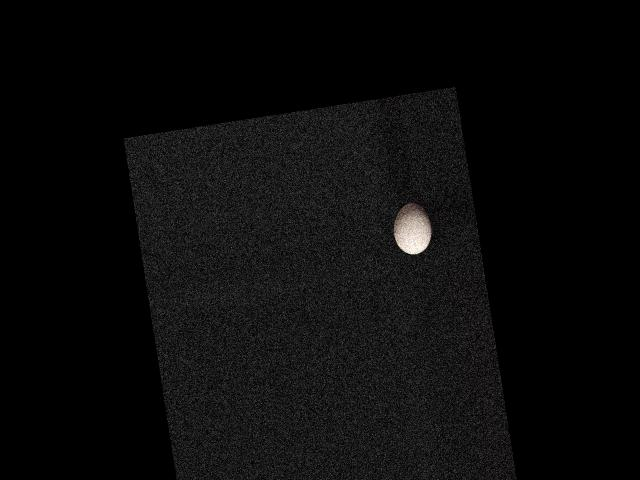egg: (390, 201, 435, 257)
